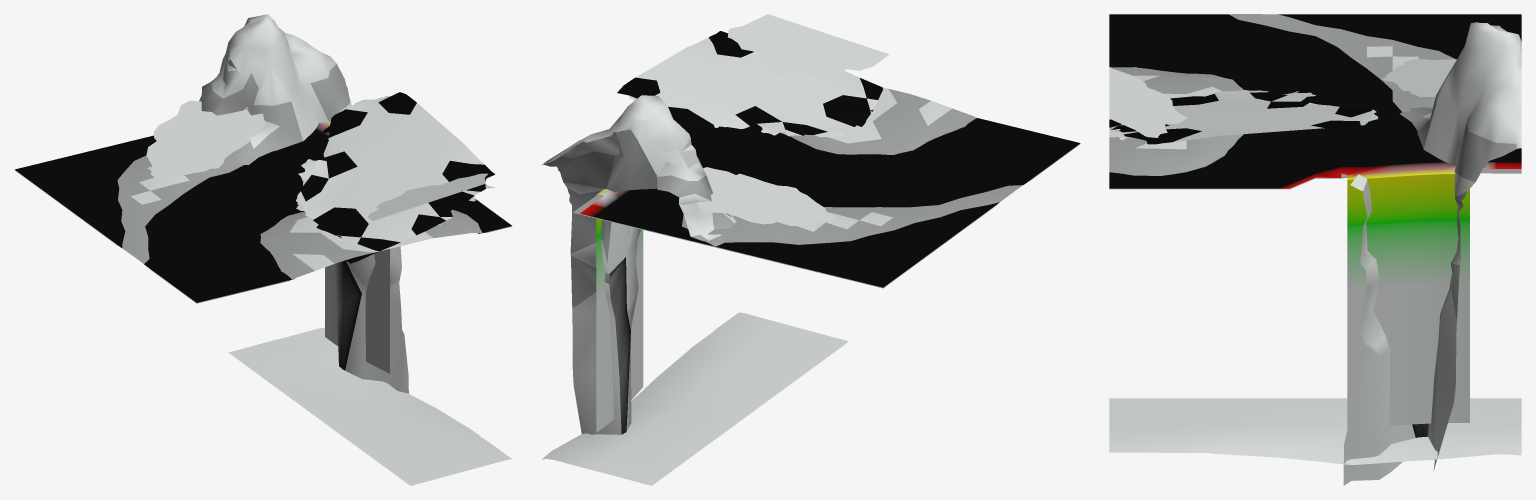
3 views of the same model, side by side, from view 1: azimuth 30°, elevation 25°; view 2: azimuth 150°, elevation 25°; view 3: azimuth 270°, elevation 25° (orthographic). The views are drawn at different scales.
Visible parts, largest first — view 1: G:\FFXIV-MapTools\exports\d2f2\bg\ex1\02_dra_d2\fld\d2f2\bgp (×11); view 2: G:\FFXIV-MapTools\exports\d2f2\bg\ex1\02_dra_d2\fld\d2f2\bgp (×14); view 3: G:\FFXIV-MapTools\exports\d2f2\bg\ex1\02_dra_d2\fld\d2f2\bgp (×13).
Part boxes in pixels (bbox=[...]): G:\FFXIV-MapTools\exports\d2f2\bg\ex1\02_dra_d2\fld\d2f2\bgp (×11): bbox=[15, 14, 511, 485]; G:\FFXIV-MapTools\exports\d2f2\bg\ex1\02_dra_d2\fld\d2f2\bgp (×14): bbox=[541, 14, 1080, 485]; G:\FFXIV-MapTools\exports\d2f2\bg\ex1\02_dra_d2\fld\d2f2\bgp (×13): bbox=[1109, 14, 1521, 485].
Size of the model in its own units: 128 by 144 by 128.
